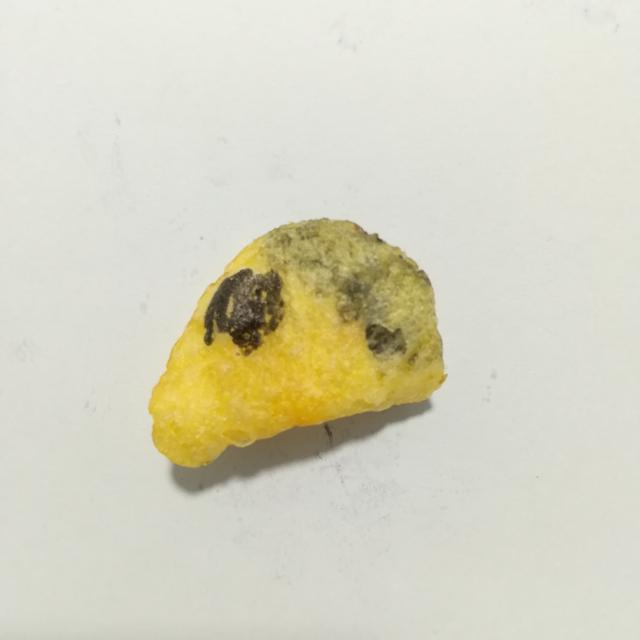chip: (149, 218, 446, 467)
damaged: (204, 268, 284, 354)
semi-damaged: (260, 218, 443, 374)
